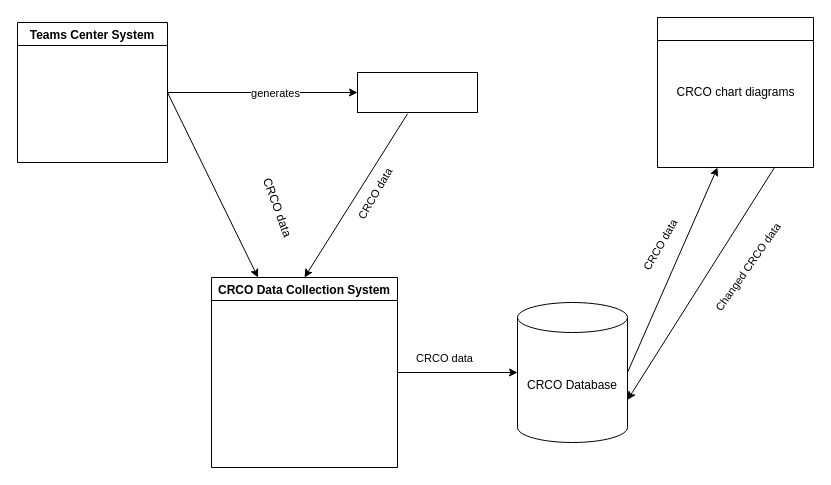
The diagram is 831 pixels wide and 485 high, and some of its shapes have lost their labels. The box of each missing label's shape, as (x1, y1, x2, y2) in pixels:
CRCO Excel File: (356, 72, 478, 112)
LabNow System: (656, 16, 814, 168)
